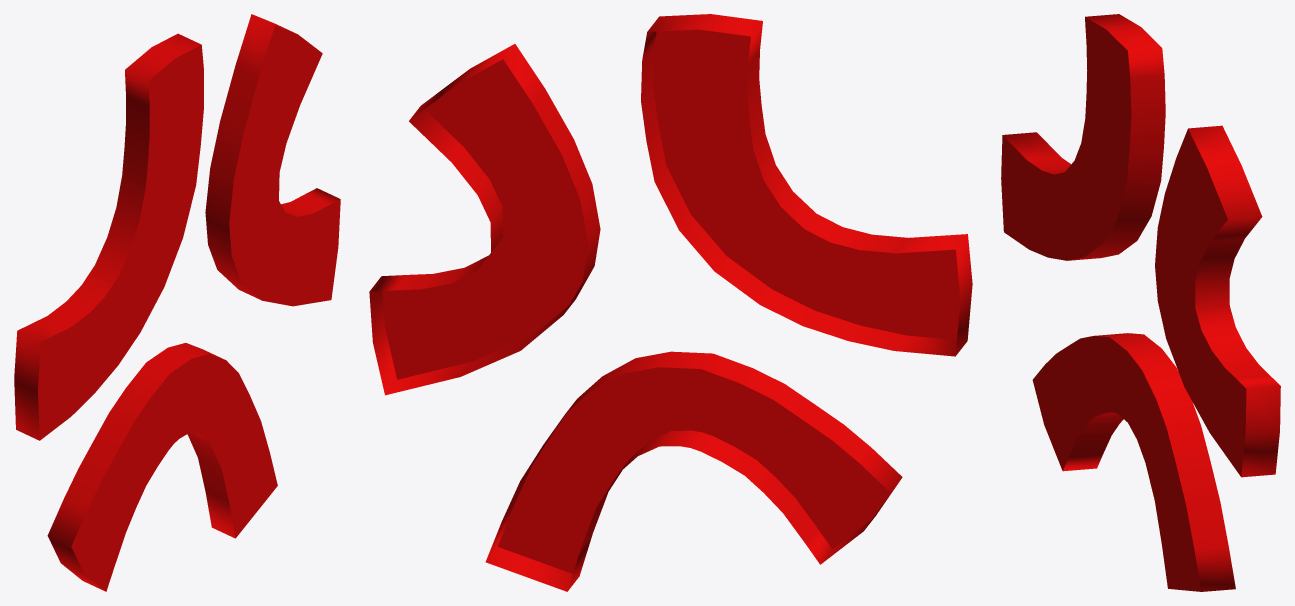
Rendered from Angry_Emote.fbx.
3 views of the same model, side by side, from view 1: azimuth 30°, elevation 25°; view 2: azimuth 150°, elevation 25°; view 3: azimuth 270°, elevation 25° (orthographic). The views are drawn at different scales.
Parts seen in each view (by area): view 1: Angry_Emote; view 2: Angry_Emote; view 3: Angry_Emote.
Boxes of the visible parts, x1=… form: Angry_Emote: x1=14, y1=14, x2=340, y2=591; Angry_Emote: x1=369, y1=14, x2=972, y2=591; Angry_Emote: x1=1001, y1=14, x2=1280, y2=591.
Bounding box in the file's own units: 6.06 × 7.01 × 3.45.
